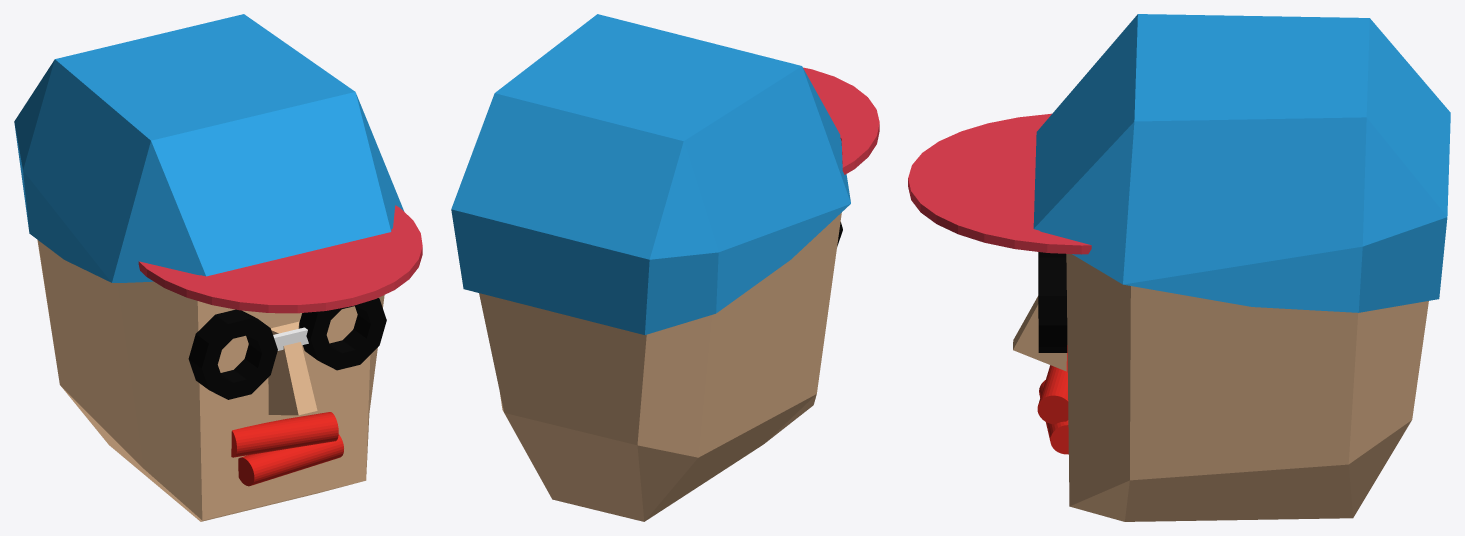
3 renders of one model, left to right at view 1: azimuth 30°, elevation 25°; view 2: azimuth 150°, elevation 25°; view 3: azimuth 270°, elevation 25°, orthographic. The views are drawn at different scales.
Visible parts, largest first — view 1: Brim.001, Face.001, Glass Frame.001, Lip Bottom.001, Nose.001, Grass Bridge.001; view 2: Brim.001, Face.001; view 3: Brim.001, Face.001, Glass Frame.001, Lip Bottom.001, Nose.001.
Boxes of the visible parts, left/top/right/bottom form: Brim.001: left=14, top=14, right=422, bottom=313; Face.001: left=37, top=240, right=384, bottom=521; Glass Frame.001: left=188, top=298, right=386, bottom=399; Lip Bottom.001: left=231, top=412, right=343, bottom=486; Nose.001: left=268, top=321, right=317, bottom=415; Grass Bridge.001: left=273, top=327, right=308, bottom=350; Brim.001: left=451, top=14, right=879, bottom=334; Face.001: left=479, top=212, right=841, bottom=521; Brim.001: left=908, top=14, right=1450, bottom=312; Face.001: left=1066, top=254, right=1428, bottom=521; Glass Frame.001: left=1038, top=252, right=1067, bottom=352; Lip Bottom.001: left=1037, top=345, right=1068, bottom=454; Nose.001: left=1013, top=296, right=1066, bottom=371.
Size of the model in its own units: 335 by 431 by 495.
